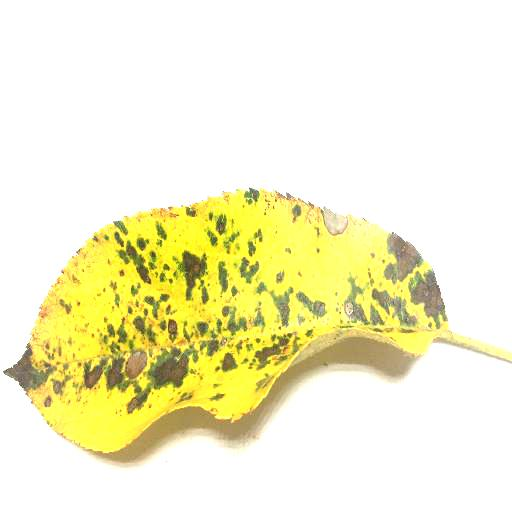Brown_Spot: (6, 193, 511, 472)
